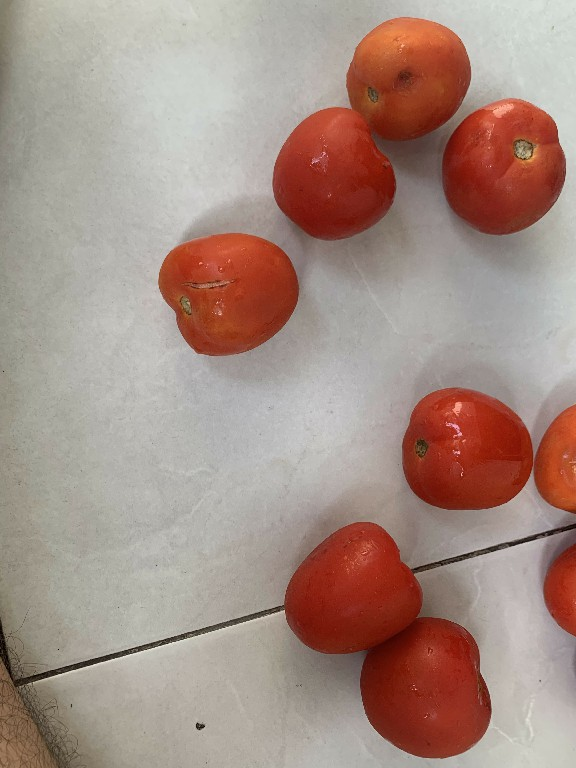NG: (158, 232, 300, 357), (343, 11, 474, 138)
OK: (356, 616, 497, 761), (276, 520, 422, 658), (435, 97, 568, 236), (397, 381, 532, 510), (268, 106, 390, 235)
